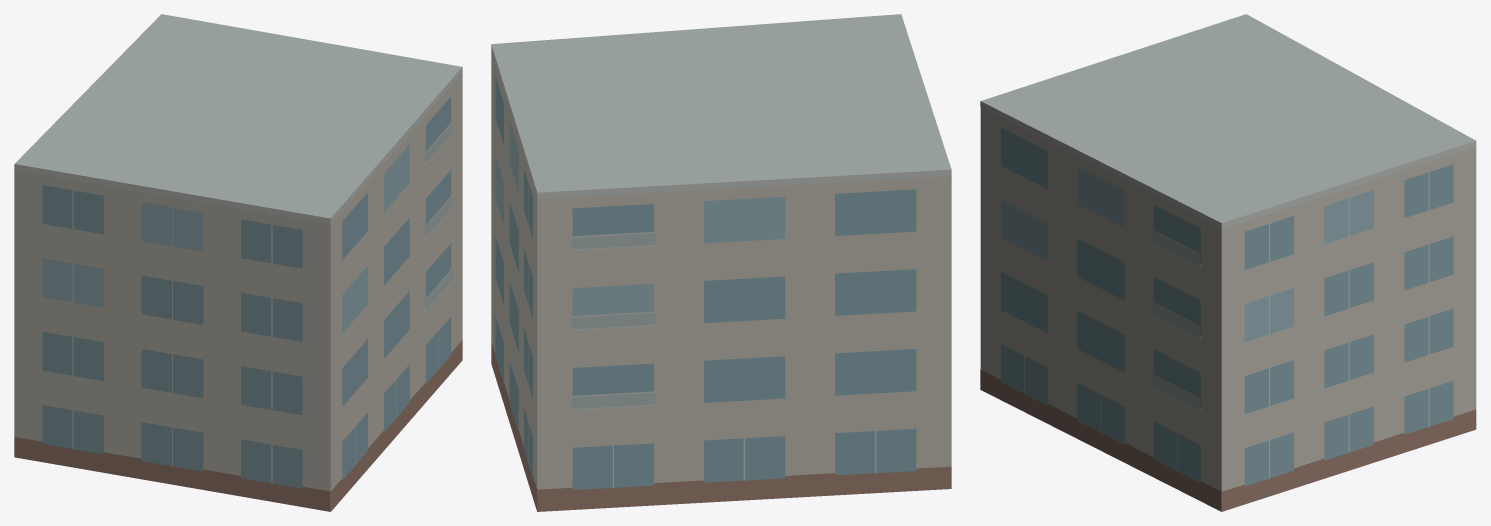
The model's file is survey-upis-32646860.glb.
3 renders of one model, left to right at view 1: azimuth 30°, elevation 25°; view 2: azimuth 150°, elevation 25°; view 3: azimuth 270°, elevation 25°, orthographic. The views are drawn at different scales.
Parts seen in each view (by area): view 1: survey-upis-32646860.tmp; view 2: survey-upis-32646860.tmp; view 3: survey-upis-32646860.tmp.
Part boxes in pixels (x1,y1,x2,y2): survey-upis-32646860.tmp: [14, 14, 462, 511]; survey-upis-32646860.tmp: [491, 14, 951, 511]; survey-upis-32646860.tmp: [980, 14, 1476, 511].
Size of the model in its own units: 18.19 by 11.7 by 18.22.
